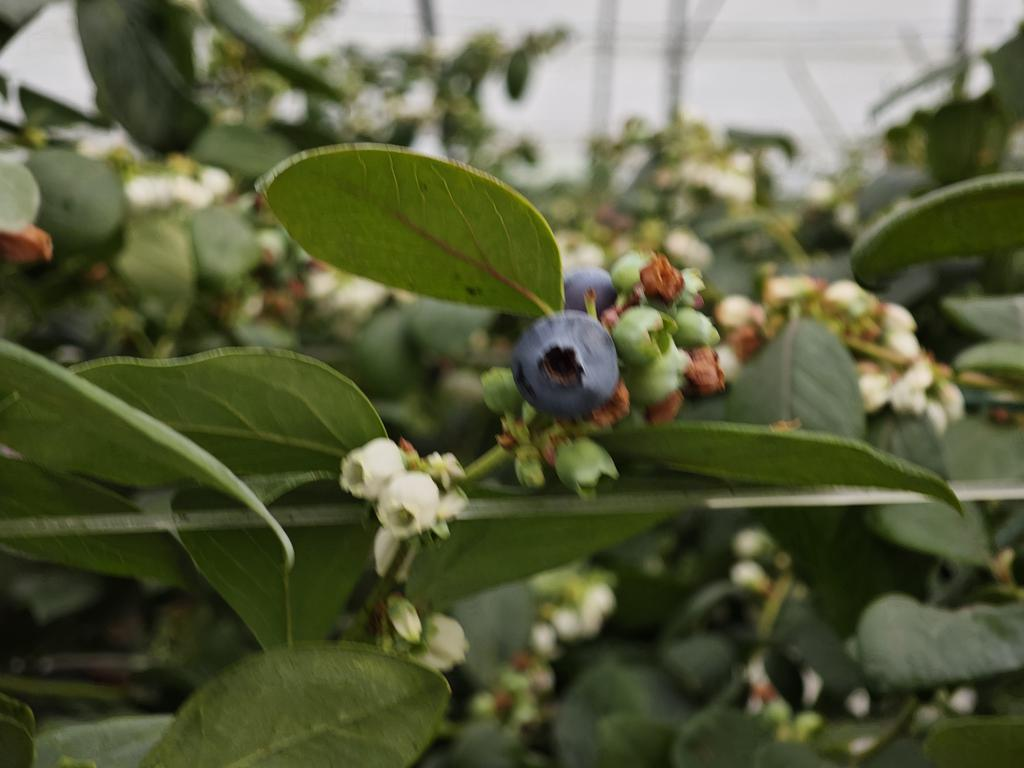RipeBlueBerry: (509, 311, 620, 411)
